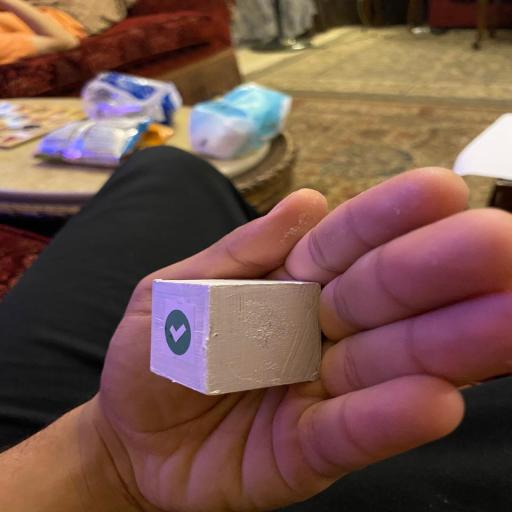Confirm: (149, 278, 325, 396)
